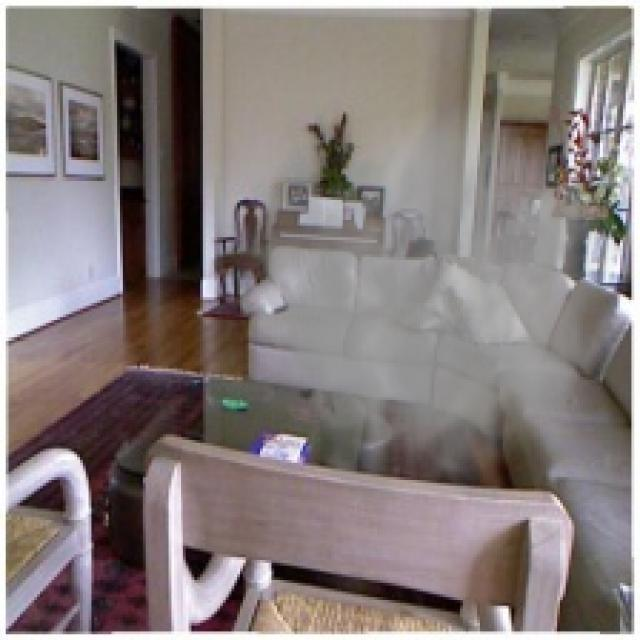Smoke: (220, 91, 614, 518)
